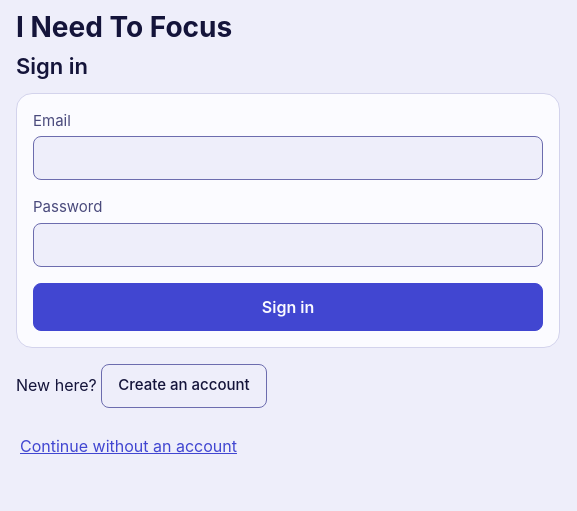
AuthGate › shows the generic message for a wrong email or password
Expected: the heading "Sign in" is shown, left=16, top=53, right=88, bottom=79
Type "a@b.co" into the field labelled "Email".
click(288, 158); type("a@b.co")  # box left=33, top=136, right=543, bottom=180
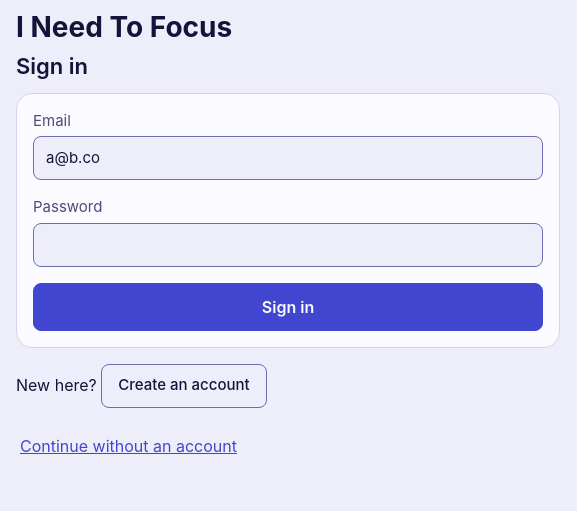
Type "password1" into the password field labelled "Password".
click(288, 244); type("password1")  # box left=33, top=222, right=543, bottom=266
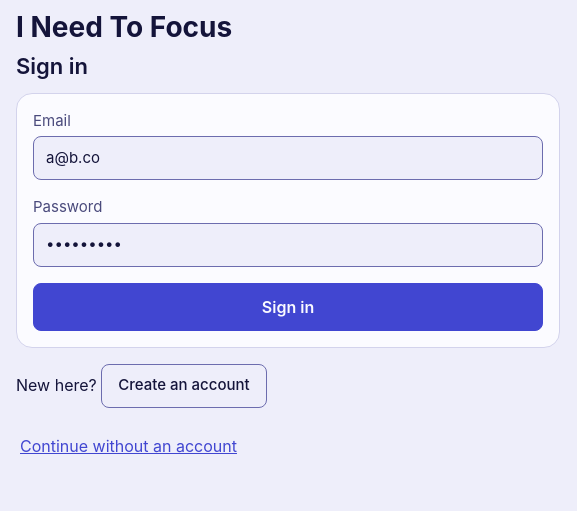
Click the button "Sign in".
click(288, 306)  # box left=33, top=282, right=543, bottom=330
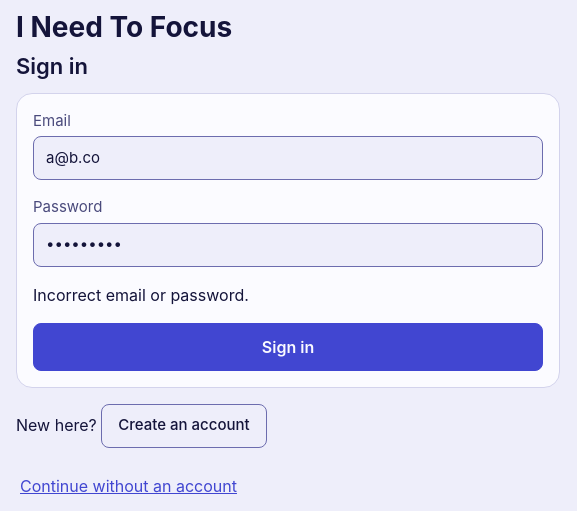
Now the text "Incorrect email or password." is shown, box left=33, top=284, right=249, bottom=304
